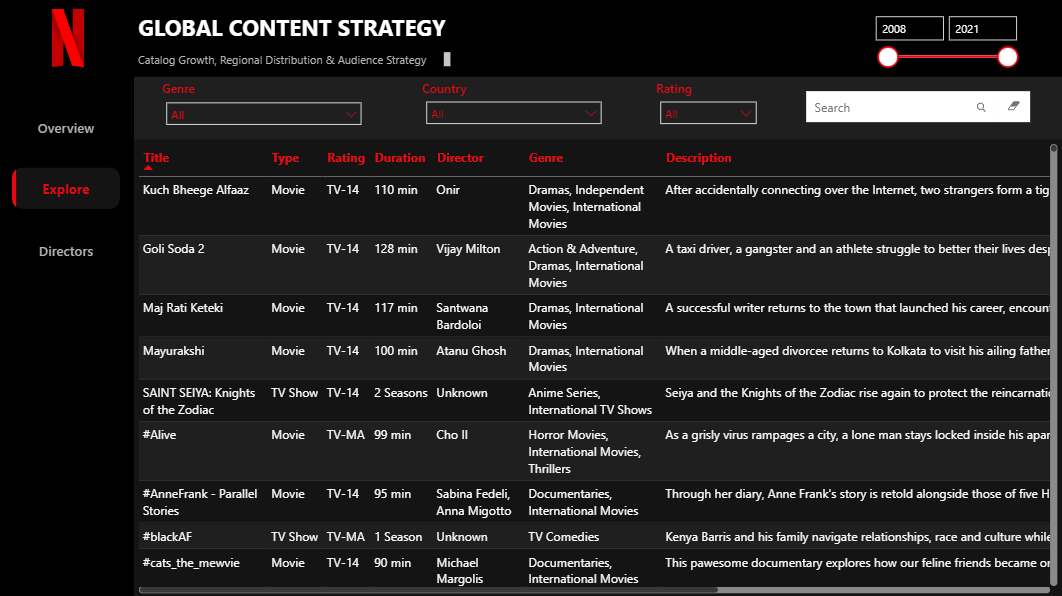

Layout of this report page (visuals, bound fields, positions):
{"tool":"powerbi","page":{"name":"Explore","canvas":[1280,720],"ordinal":1},"visuals":[{"type":"shape","box":[162.5,87.5,1117.5,80],"z":0},{"type":"shape","box":[162.5,0,1117.5,92.5],"z":1000},{"type":"shape","box":[0,0,162.5,720],"z":2000},{"type":"image","box":[17.5,11.2,130,70],"z":3000},{"type":"textbox","box":[162.5,10,386.2,47.5],"z":4000},{"type":"textbox","box":[162.5,57.5,386.2,28.8],"z":5000},{"type":"slicer","fields":{"Values":["netflix_cleaned_final.year_added"]},"box":[1042.7,9.6,193.8,83.1],"z":6000},{"type":"slicer","title":"Genre","fields":{"Values":["Genres_bridge.Genre"]},"box":[191.4,96.3,255.3,63.8],"z":7000},{"type":"slicer","title":"Rating","fields":{"Values":["netflix_cleaned_final.rating"]},"box":[786.2,96.3,136.1,63.8],"z":8000},{"type":"slicer","title":"Country","fields":{"Values":["netflix_cleaned_final.country.1"]},"box":[504.5,96.3,231.2,63.8],"z":9000},{"type":"textFilter25A4896A83E0487089E2B90C9AE57C8A","fields":{"field":["netflix_cleaned_final.title"]},"box":[966.8,104.7,279.3,47],"z":10000},{"type":"tableEx","fields":{"Values":["netflix_cleaned_final.title","netflix_cleaned_final.type","netflix_cleaned_final.rating","netflix_cleaned_final.duration","netflix_cleaned_final.director","netflix_cleaned_final.listed_in","netflix_cleaned_final.description"]},"box":[162.5,168.6,1117.3,551.4],"z":11000},{"type":"pageNavigator","box":[15.7,127.6,130,198.7],"z":12000}]}

Visuals, with their boxes on the page's 1280x720 design canvas (x1, y1, x2, y2). These are canvas units, not pixel positions in the 1062x596 screenshot, which may show the page scaled, cropped or inside an application window:
shape: (162,88,1280,168)
shape: (162,0,1280,92)
shape: (0,0,162,720)
image: (18,11,148,81)
textbox: (162,10,549,58)
textbox: (162,58,549,86)
slicer - netflix_cleaned_final.year_added: (1043,10,1236,93)
"Genre" slicer: (191,96,447,160)
"Rating" slicer: (786,96,922,160)
"Country" slicer: (504,96,736,160)
textFilter25A4896A83E0487089E2B90C9AE57C8A - netflix_cleaned_final.title: (967,105,1246,152)
tableEx - netflix_cleaned_final.title x netflix_cleaned_final.type: (162,169,1280,720)
pageNavigator: (16,128,146,326)
